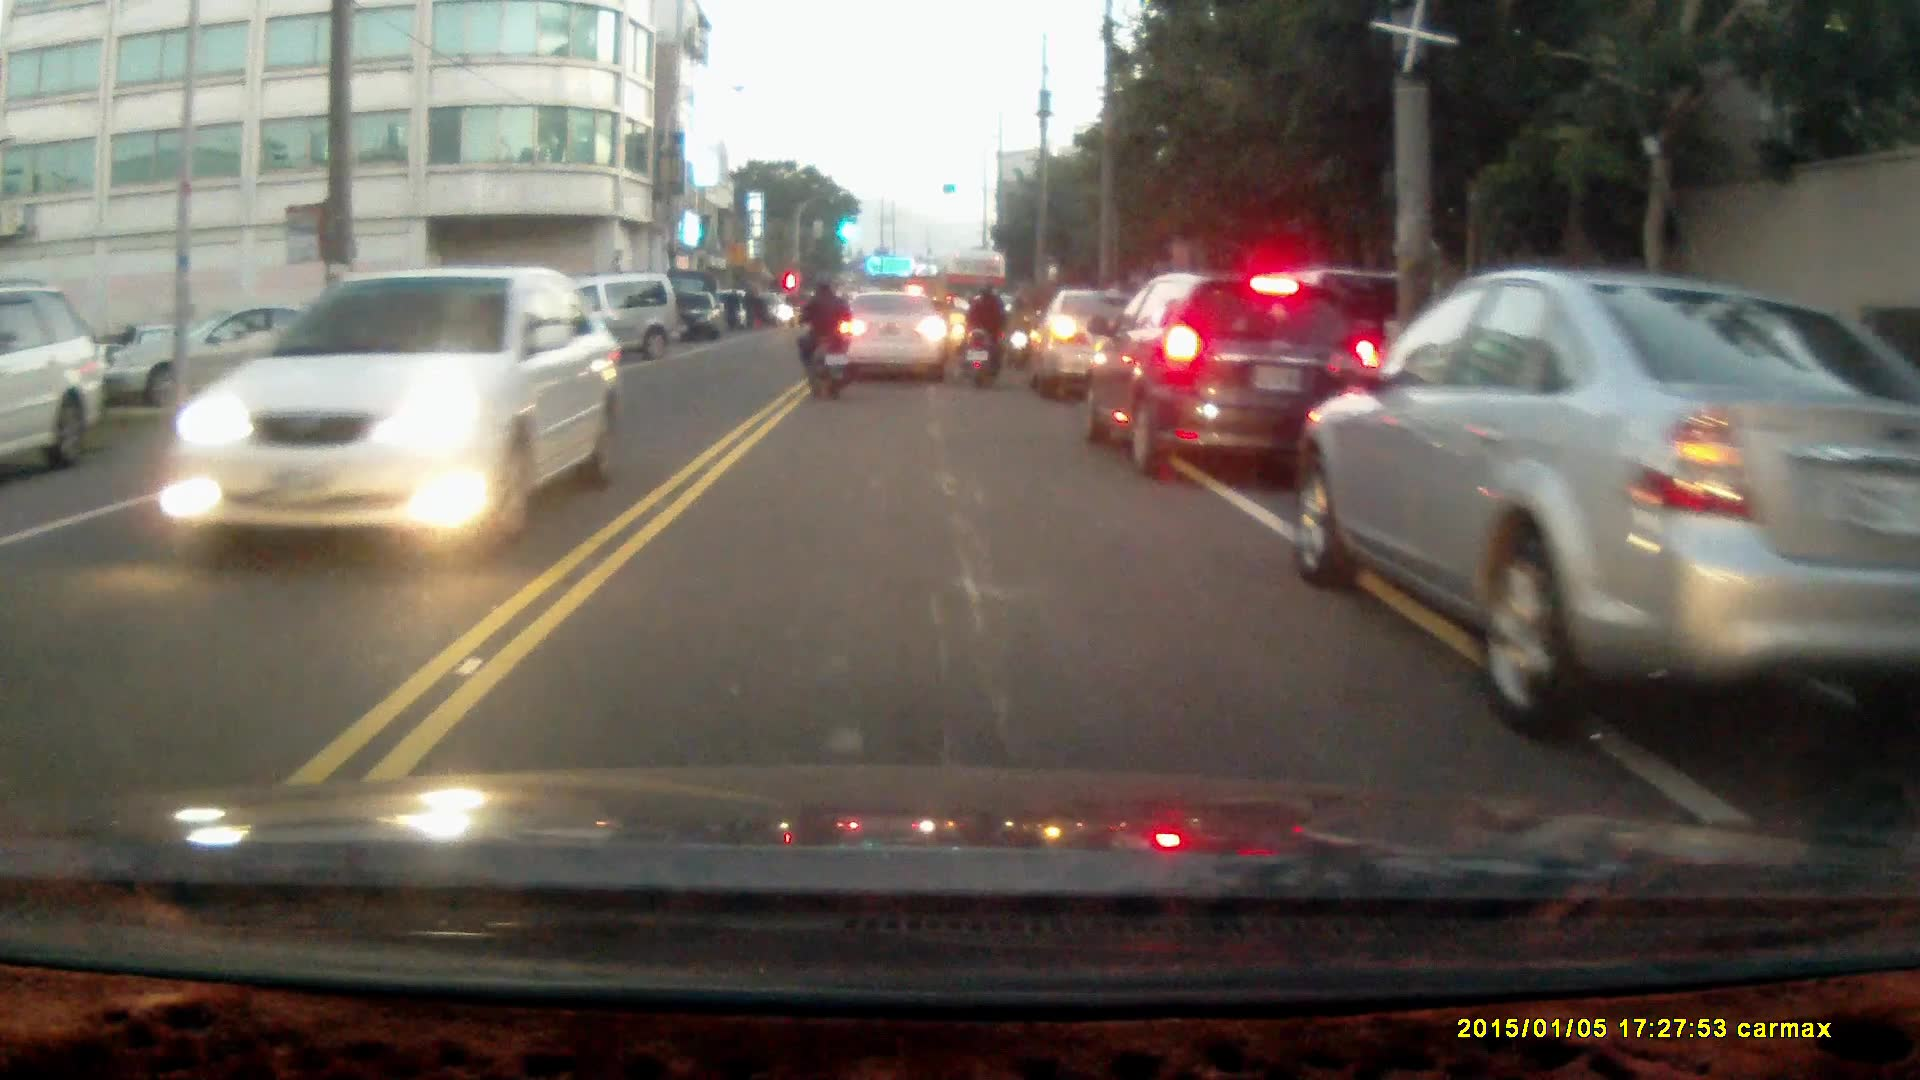rider: (793, 276, 852, 400), (959, 276, 1014, 386)
vehicle: (1308, 265, 1920, 733), (176, 265, 607, 554), (1078, 267, 1378, 477), (1, 284, 102, 476), (1023, 288, 1149, 401), (834, 288, 948, 387), (670, 292, 726, 343)
